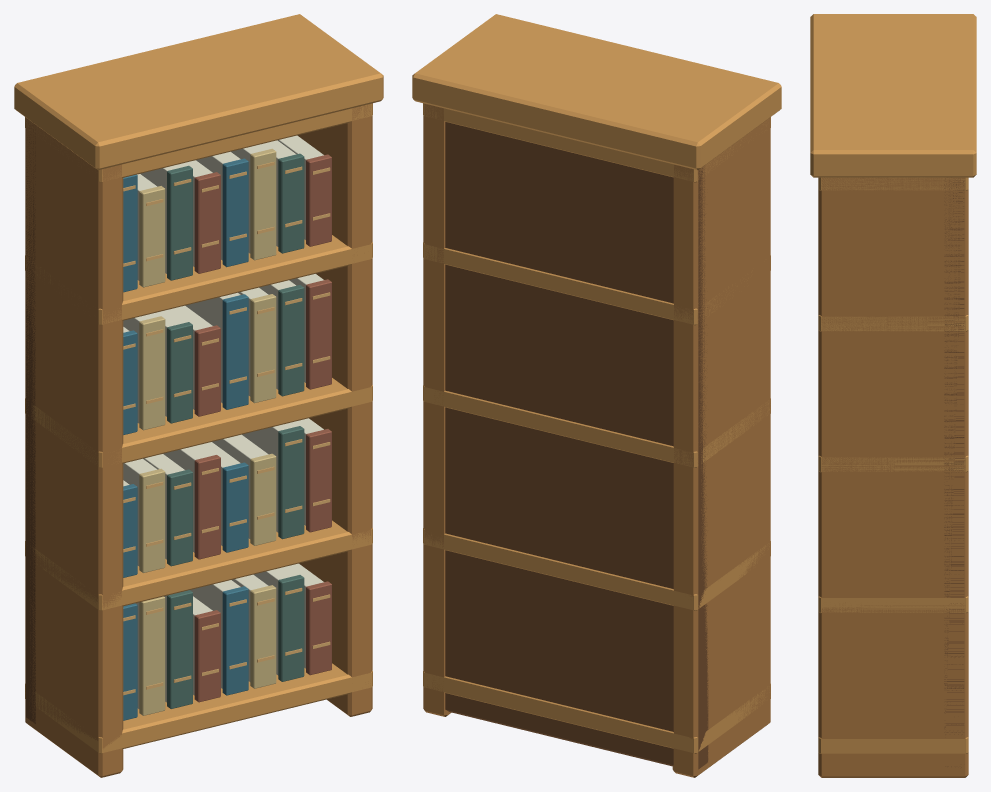
File: bookshelf.glb
3 renders of one model, left to right at view 1: azimuth 30°, elevation 25°; view 2: azimuth 150°, elevation 25°; view 3: azimuth 270°, elevation 25°, orthographic.
Visible parts, largest first — view 1: bookshelf__oak, bookshelf__oak_top, bookshelf__book_cream, bookshelf__book_teal, bookshelf__book_red, bookshelf__paper, bookshelf__book_blue, bookshelf__oak_dark, bookshelf__oak_light; view 2: bookshelf__oak_dark, bookshelf__oak, bookshelf__oak_top; view 3: bookshelf__oak, bookshelf__oak_top, bookshelf__oak_dark.
Boxes of the visible parts, bbox=[...] form: bookshelf__oak: bbox=[25, 104, 372, 777]; bookshelf__oak_top: bbox=[14, 14, 383, 753]; bookshelf__book_cream: bbox=[139, 148, 276, 715]; bookshelf__book_teal: bbox=[167, 153, 304, 708]; bookshelf__book_red: bbox=[194, 154, 331, 702]; bookshelf__paper: bbox=[123, 135, 323, 708]; bookshelf__book_blue: bbox=[123, 158, 248, 720]; bookshelf__oak_dark: bbox=[26, 124, 35, 723]; bookshelf__oak_light: bbox=[123, 162, 330, 695]; bookshelf__oak_dark: bbox=[445, 122, 708, 769]; bookshelf__oak: bbox=[423, 104, 770, 777]; bookshelf__oak_top: bbox=[412, 14, 781, 753]; bookshelf__oak: bbox=[818, 177, 968, 777]; bookshelf__oak_top: bbox=[810, 14, 976, 753]; bookshelf__oak_dark: bbox=[944, 178, 964, 767].
Size of the model in its own units: 0.81 by 1.72 by 0.41.
